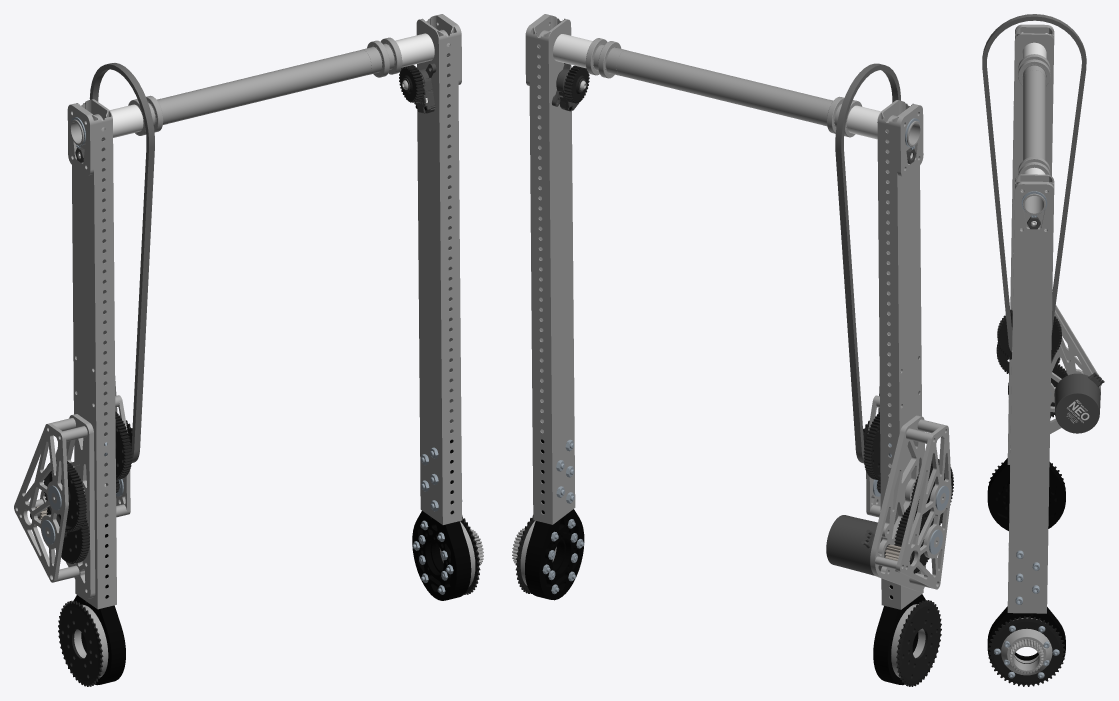
3 renders of one model, left to right at view 1: azimuth 30°, elevation 25°; view 2: azimuth 150°, elevation 25°; view 3: azimuth 270°, elevation 25°, orthographic. The views are drawn at different scales.
Visible parts, largest first — view 1: Tube 2"x1"x24.26" (×2), Part 20, Part 34, 170 links #25 chain, Part 14 (×2), 64T 20DP Steel - 1/2" Hex Bore Gear (REV-21-1943) (×3), #25 Plate Sprocket - MAXSpline - 48T (REV-21-1964), Part 31, Part 23 (×2), Part 15, Part 18; view 2: Tube 2"x1"x24.26" (×2), Part 20, Part 34, 170 links #25 chain, Part 31, Part 14 (×2), #25 Plate Sprocket - MAXSpline - 48T (REV-21-1964), NEO Brushless Motor (REV-21-1650), Part 23 (×2), Part 15, Part 18, 64T 20DP Steel - 1/2" Hex Bore Gear (REV-21-1943) (+2 smaller); view 3: Tube 2"x1"x24.26" (×2), 170 links #25 chain, Part 20, NEO Brushless Motor (REV-21-1650), #25 Plate Sprocket - MAXSpline - 48T (REV-21-1964), Part 14 (×2), Part 17, Part 18, 64T 20DP Steel - 1/2" Hex Bore Gear (REV-21-1943) (×3), Part 15 (×2), Part 31, 5972K282_Ball Bearing (×2) (+2 smaller).
Boxes of the visible parts, left/top/right/bottom form: Tube 2"x1"x24.26" (×2): left=72, top=15, right=462, bottom=609; Part 20: left=70, top=30, right=449, bottom=145; Part 34: left=14, top=423, right=68, bottom=582; 170 links #25 chain: left=89, top=63, right=154, bottom=462; Part 14 (×2): left=74, top=439, right=471, bottom=685; 64T 20DP Steel - 1/2" Hex Bore Gear (REV-21-1943) (×3): left=43, top=411, right=132, bottom=563; #25 Plate Sprocket - MAXSpline - 48T (REV-21-1964): left=58, top=600, right=103, bottom=686; Part 31: left=40, top=414, right=95, bottom=598; Part 23 (×2): left=110, top=33, right=434, bottom=137; Part 15: left=414, top=513, right=454, bottom=596; Part 18: left=67, top=104, right=93, bottom=175; Tube 2"x1"x24.26" (×2): left=529, top=15, right=923, bottom=609; Part 20: left=537, top=30, right=920, bottom=146; Part 34: left=896, top=424, right=951, bottom=589; 170 links #25 chain: left=835, top=63, right=900, bottom=463; Part 31: left=870, top=415, right=925, bottom=591; Part 14 (×2): left=525, top=439, right=925, bottom=685; #25 Plate Sprocket - MAXSpline - 48T (REV-21-1964): left=896, top=600, right=941, bottom=686; NEO Brushless Motor (REV-21-1650): left=826, top=515, right=911, bottom=575; Part 23 (×2): left=553, top=34, right=880, bottom=139; Part 15: left=541, top=512, right=582, bottom=595; Part 18: left=897, top=104, right=923, bottom=177; 64T 20DP Steel - 1/2" Hex Bore Gear (REV-21-1943): left=863, top=412, right=880, bottom=480; Tube 2"x1"x24.26" (×2): left=1007, top=26, right=1054, bottom=613; 170 links #25 chain: left=982, top=14, right=1086, bottom=352; Part 20: left=1022, top=65, right=1045, bottom=214; NEO Brushless Motor (REV-21-1650): left=1054, top=372, right=1104, bottom=433; #25 Plate Sprocket - MAXSpline - 48T (REV-21-1964): left=988, top=616, right=1065, bottom=686; Part 14 (×2): left=987, top=458, right=1065, bottom=668; Part 17: left=1001, top=628, right=1052, bottom=675; Part 18: left=1014, top=182, right=1054, bottom=236; 64T 20DP Steel - 1/2" Hex Bore Gear (REV-21-1943) (×3): left=996, top=309, right=1067, bottom=418; Part 15 (×2): left=991, top=471, right=1062, bottom=660; Part 31: left=1050, top=310, right=1100, bottom=433; 5972K282_Ball Bearing (×2): left=1018, top=59, right=1050, bottom=175.
Size of the model in its own units: 0.5511 by 0.7568 by 0.1585.
